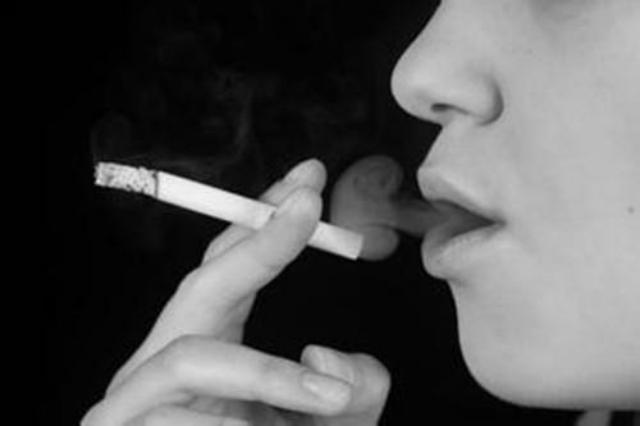Cigarette: (86, 160, 368, 262)
